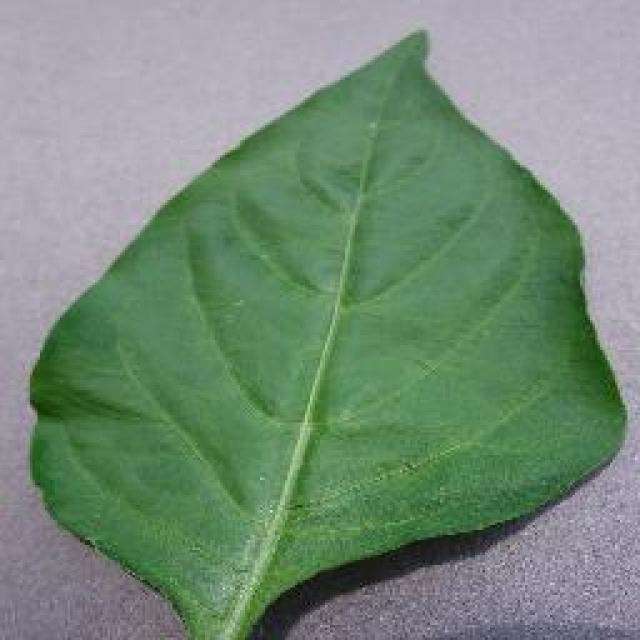Chilli_Healthy: (25, 25, 627, 637)
